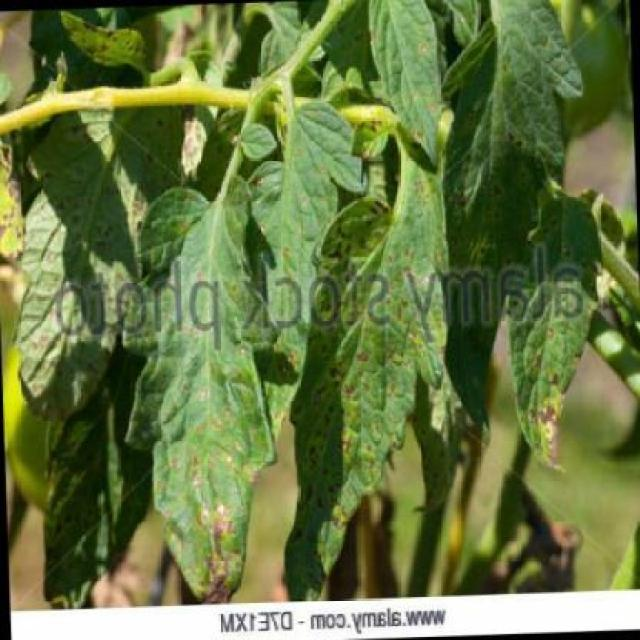Septoria leaf spot: (274, 124, 473, 603), (110, 161, 281, 612), (4, 81, 204, 418), (240, 87, 362, 387), (505, 173, 620, 487)
